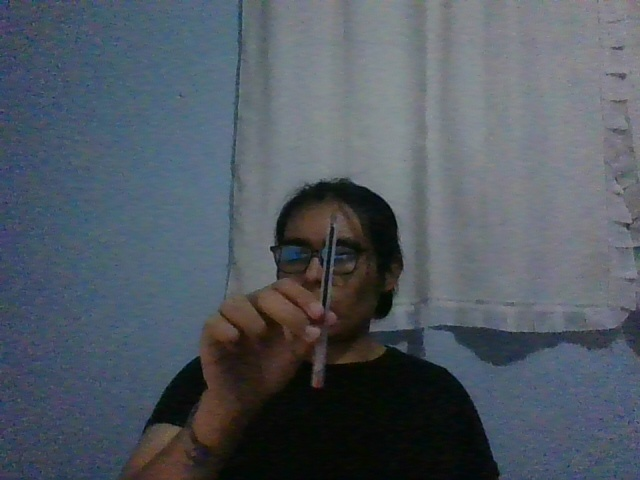pluma: (309, 210, 337, 389)
